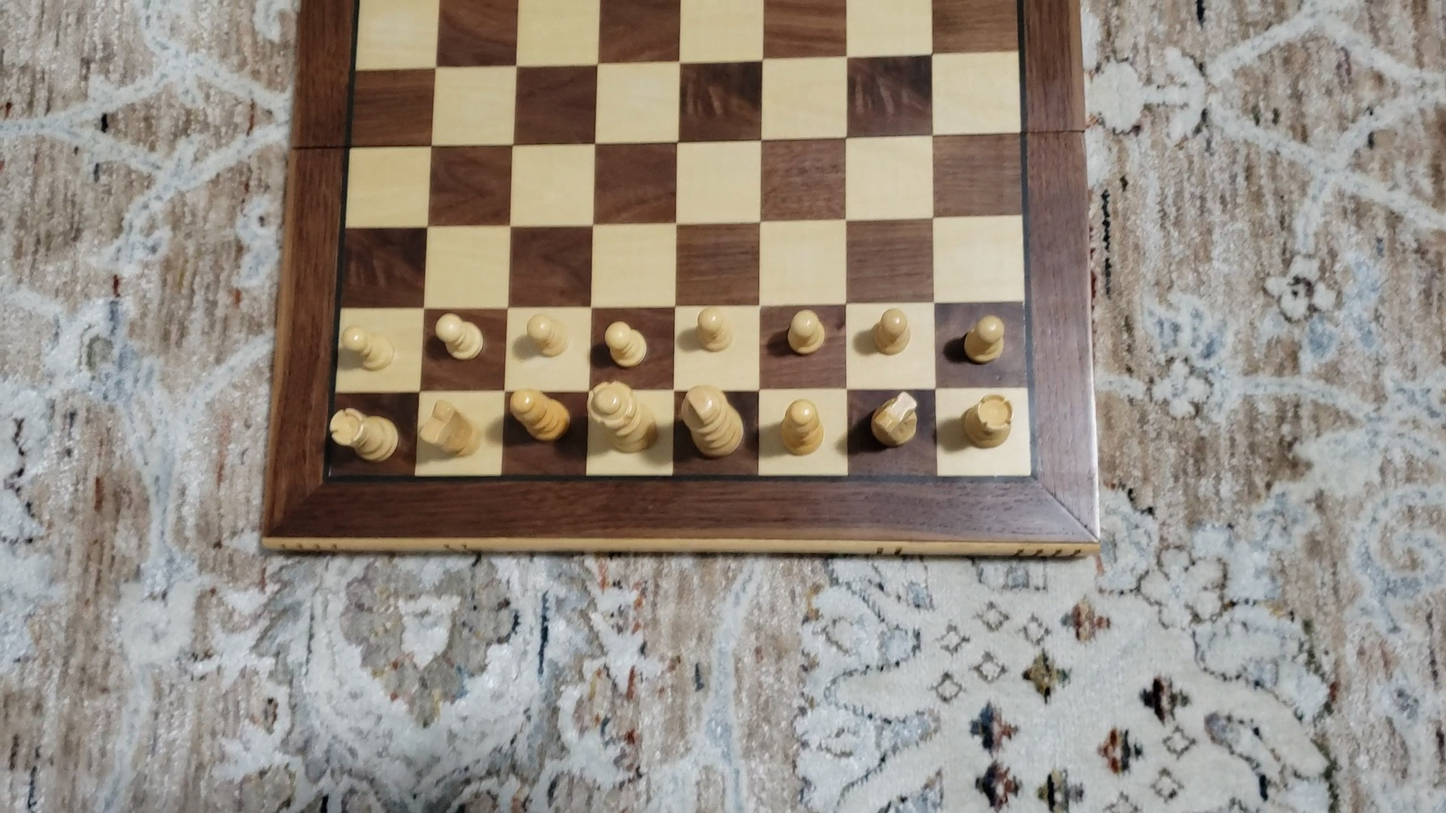white-bishop: (506, 386, 570, 444), (778, 396, 825, 459)
white-king: (680, 382, 746, 461)
white-knight: (420, 397, 483, 462), (866, 388, 920, 451)
white-pawn: (338, 322, 398, 375), (959, 311, 1009, 367), (866, 304, 916, 360), (432, 311, 485, 361), (523, 309, 571, 360), (602, 318, 649, 369), (692, 303, 738, 355), (782, 305, 827, 357)
white-queen: (585, 379, 660, 456)
white-rook: (329, 404, 401, 464), (961, 392, 1015, 451)
